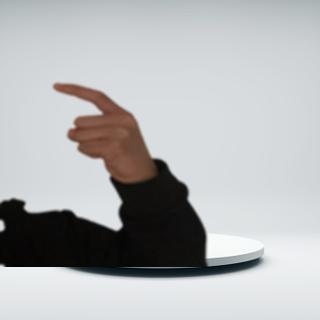WHY: (44, 77, 156, 182)
